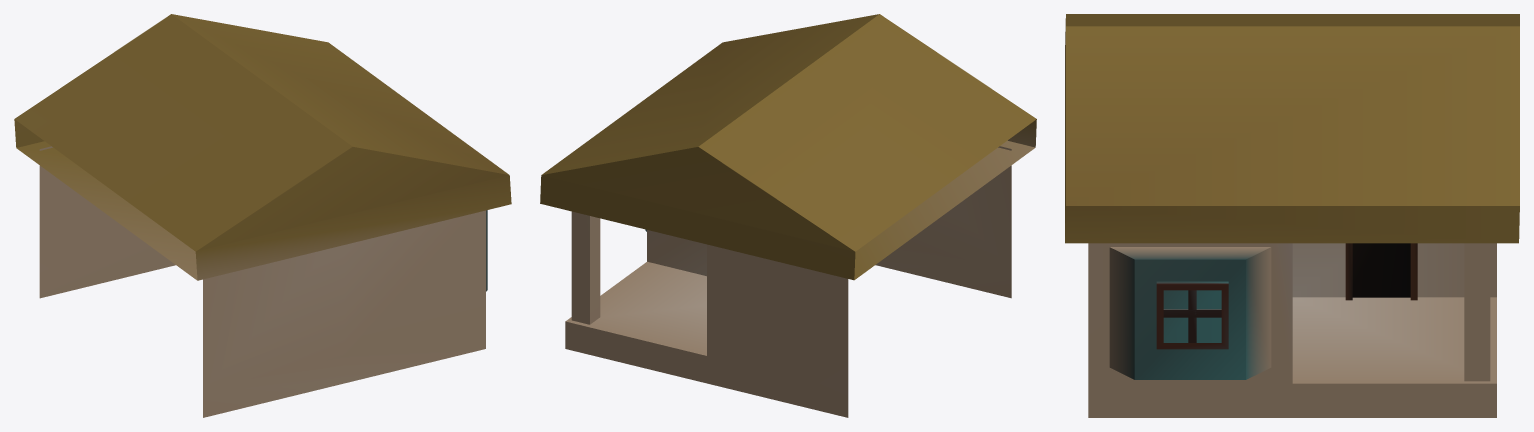
Rendered from Casa3.fbx.
The picture shows the model from 3 angles, left to right: view 1: azimuth 30°, elevation 25°; view 2: azimuth 150°, elevation 25°; view 3: azimuth 270°, elevation 25°; orthographic projection. The views are drawn at different scales.
Parts seen in each view (by area): view 1: CasaSuburbana3; view 2: CasaSuburbana3; view 3: CasaSuburbana3.
Boxes of the visible parts, x1=… form: CasaSuburbana3: x1=14, y1=14, x2=511, y2=417; CasaSuburbana3: x1=540, y1=14, x2=1036, y2=417; CasaSuburbana3: x1=1065, y1=14, x2=1519, y2=417.
Size of the model in its own units: 2469 by 1772 by 2397.
